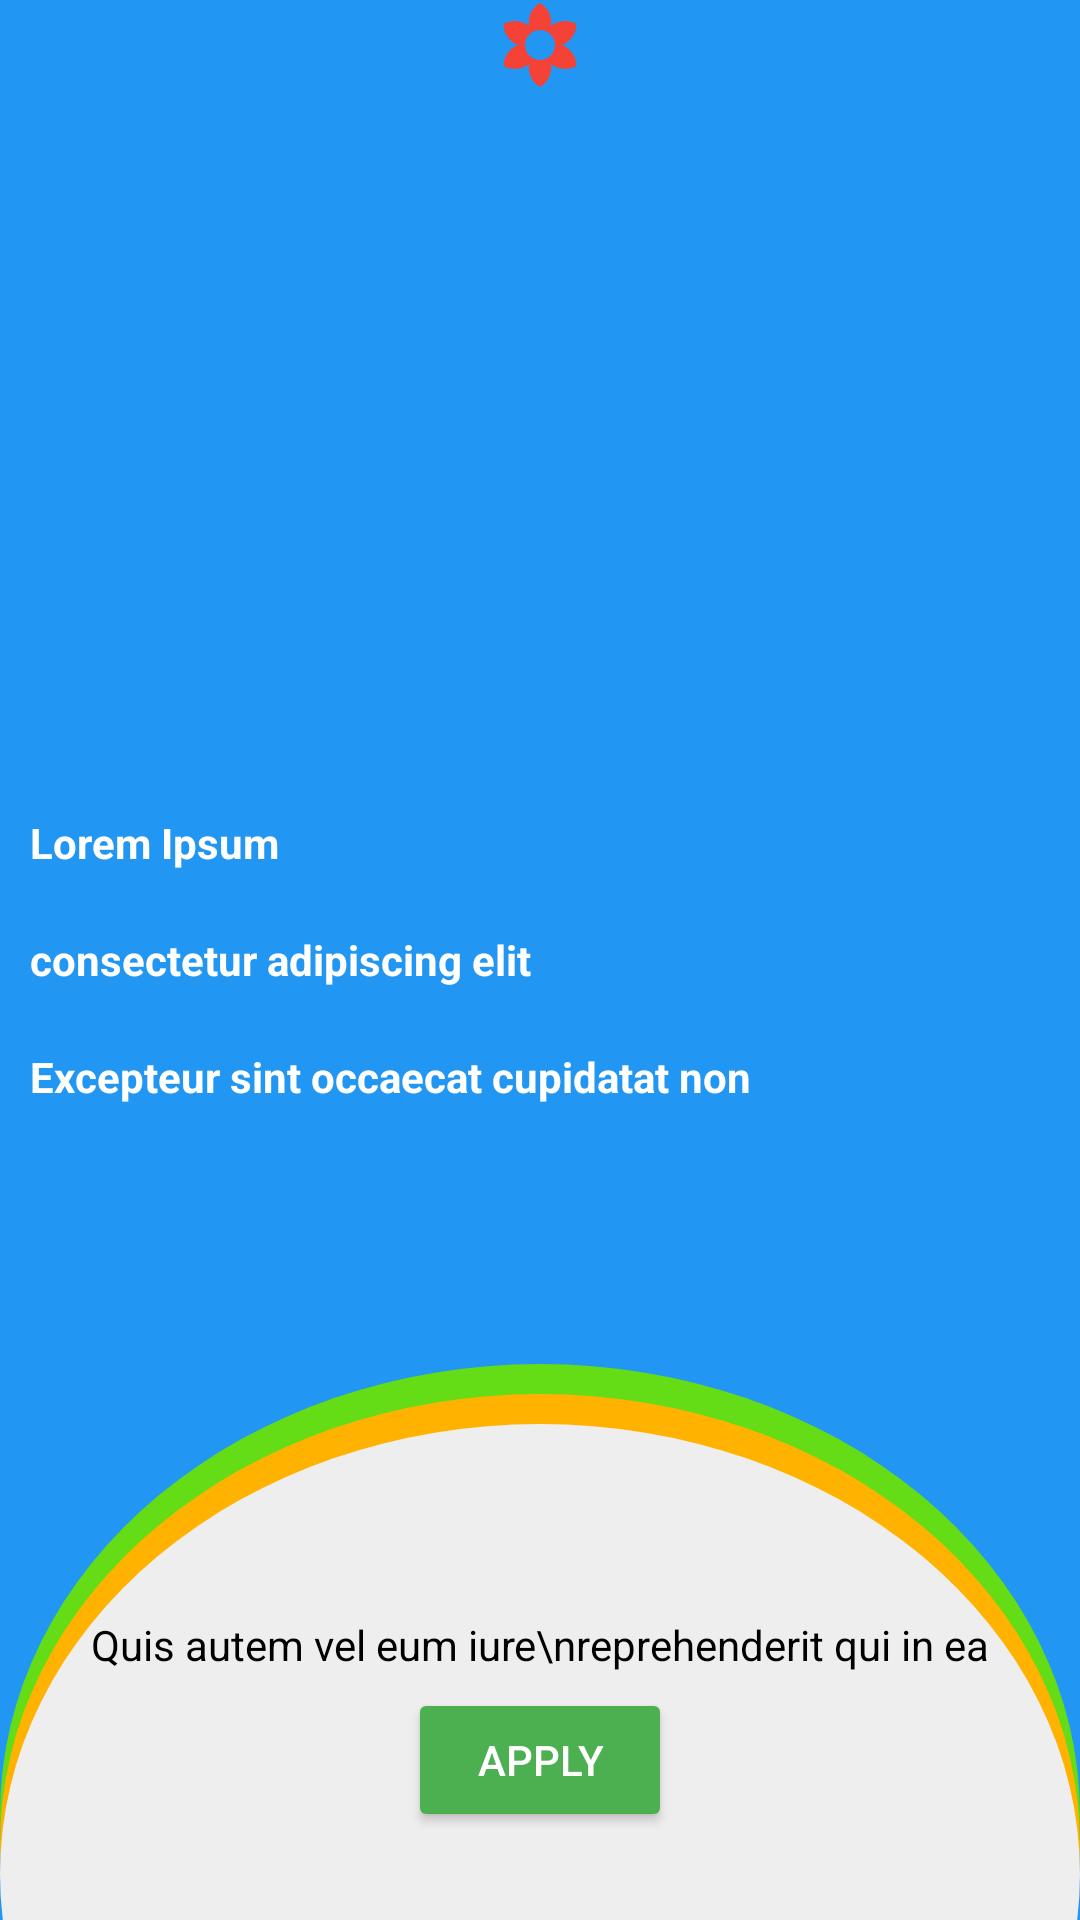

Icon click points for this 1080px x 1920px phone screenshot, format (x=x, y=y):
flower: (x=540, y=45)
